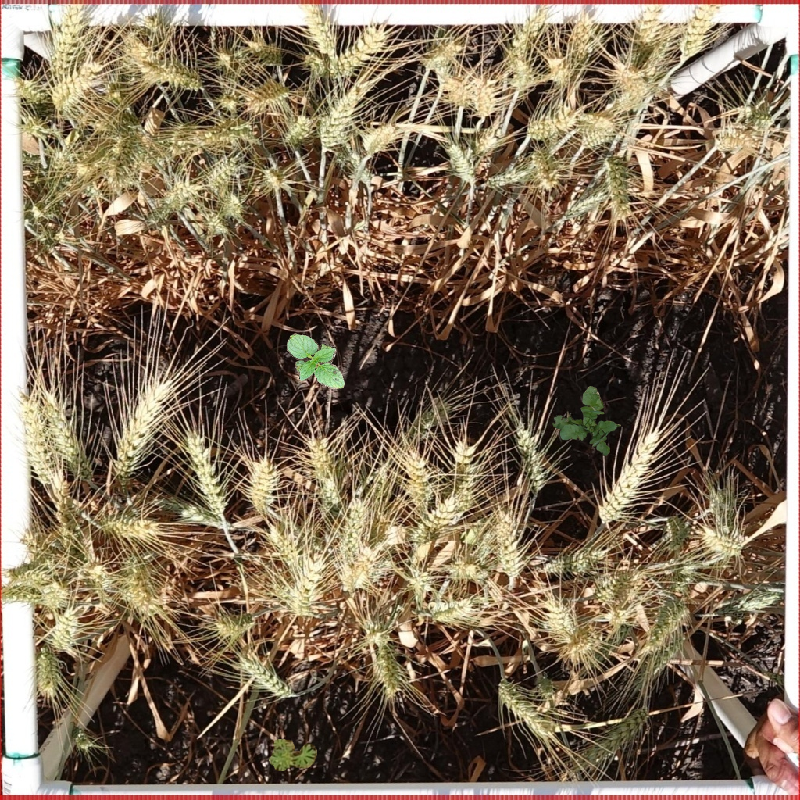spikelet: (107, 371, 174, 482), (594, 424, 664, 525), (41, 384, 94, 480), (180, 427, 231, 521), (577, 706, 651, 769), (494, 677, 562, 742), (327, 21, 393, 81), (15, 394, 57, 488), (233, 648, 299, 701), (44, 2, 89, 78), (48, 58, 105, 117), (315, 84, 362, 154), (720, 576, 790, 622), (118, 550, 164, 619), (284, 548, 329, 618), (641, 592, 689, 656), (446, 434, 483, 515), (140, 50, 206, 94), (367, 630, 408, 700), (333, 495, 370, 572), (242, 448, 284, 515), (512, 419, 550, 492), (675, 3, 721, 62), (489, 505, 525, 580), (296, 2, 341, 60), (523, 100, 581, 143), (601, 154, 637, 222), (160, 495, 228, 531), (28, 640, 68, 701), (484, 152, 542, 194), (410, 496, 458, 545), (265, 519, 306, 575), (96, 508, 162, 542), (1, 560, 57, 600), (542, 542, 607, 576), (338, 541, 380, 593), (400, 448, 435, 510), (46, 601, 86, 655), (418, 32, 467, 76), (242, 74, 293, 114), (560, 183, 609, 224), (539, 593, 579, 643), (699, 521, 748, 561), (574, 109, 620, 150), (442, 138, 480, 187), (425, 592, 478, 627), (463, 70, 500, 120), (202, 149, 246, 190), (208, 606, 258, 642), (83, 2, 144, 31), (594, 565, 638, 605), (589, 2, 654, 29), (703, 482, 739, 530), (359, 119, 401, 158), (338, 145, 376, 187), (305, 433, 337, 481), (540, 2, 594, 30), (242, 35, 286, 69), (45, 142, 79, 186), (161, 174, 199, 213), (76, 557, 114, 594), (280, 109, 315, 149), (65, 723, 101, 759), (446, 552, 486, 584), (315, 472, 343, 516), (299, 47, 333, 81), (404, 563, 436, 599), (655, 2, 701, 27), (258, 161, 290, 196), (661, 512, 692, 548), (375, 517, 406, 553), (37, 579, 71, 611), (218, 187, 248, 222), (200, 206, 230, 239)
weed: (552, 386, 621, 456), (284, 326, 346, 397), (269, 739, 317, 771)
